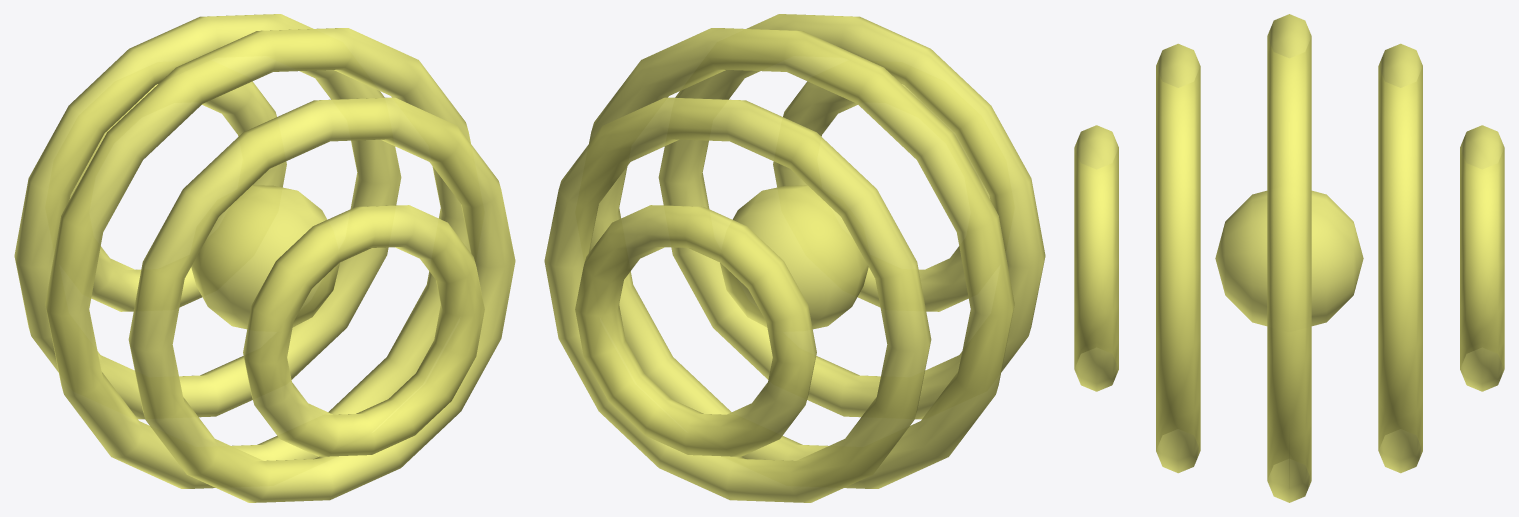
The model's file is BlastBulletCharge1.FBX.
The picture shows the model from 3 angles, left to right: view 1: azimuth 30°, elevation 25°; view 2: azimuth 150°, elevation 25°; view 3: azimuth 270°, elevation 25°; orthographic projection. The views are drawn at different scales.
Visible parts, largest first — view 1: Ring002, Ring001, Ring004, Ring003, Core, Ring005; view 2: Ring004, Ring001, Ring002, Ring005, Core, Ring003; view 3: Ring001, Ring002, Ring004, Ring003, Ring005, Core.
Boxes of the visible parts, left/top/right/bottom form: Ring002: left=128, top=97, right=515, bottom=502; Ring001: left=45, top=28, right=470, bottom=488; Ring004: left=14, top=14, right=401, bottom=419; Ring003: left=243, top=205, right=484, bottom=456; Core: left=191, top=185, right=339, bottom=329; Ring005: left=69, top=81, right=286, bottom=311; Ring004: left=544, top=97, right=931, bottom=502; Ring001: left=589, top=28, right=1014, bottom=488; Ring002: left=658, top=14, right=1045, bottom=419; Ring005: left=575, top=205, right=816, bottom=456; Core: left=720, top=185, right=868, bottom=329; Ring003: left=773, top=81, right=990, bottom=311; Ring001: left=1267, top=14, right=1311, bottom=502; Ring002: left=1156, top=43, right=1200, bottom=473; Ring004: left=1378, top=43, right=1422, bottom=473; Ring003: left=1074, top=125, right=1118, bottom=391; Ring005: left=1460, top=125, right=1504, bottom=391; Core: left=1215, top=190, right=1363, bottom=326.
Bounding box in the file's own units: 33 × 33 × 29.
